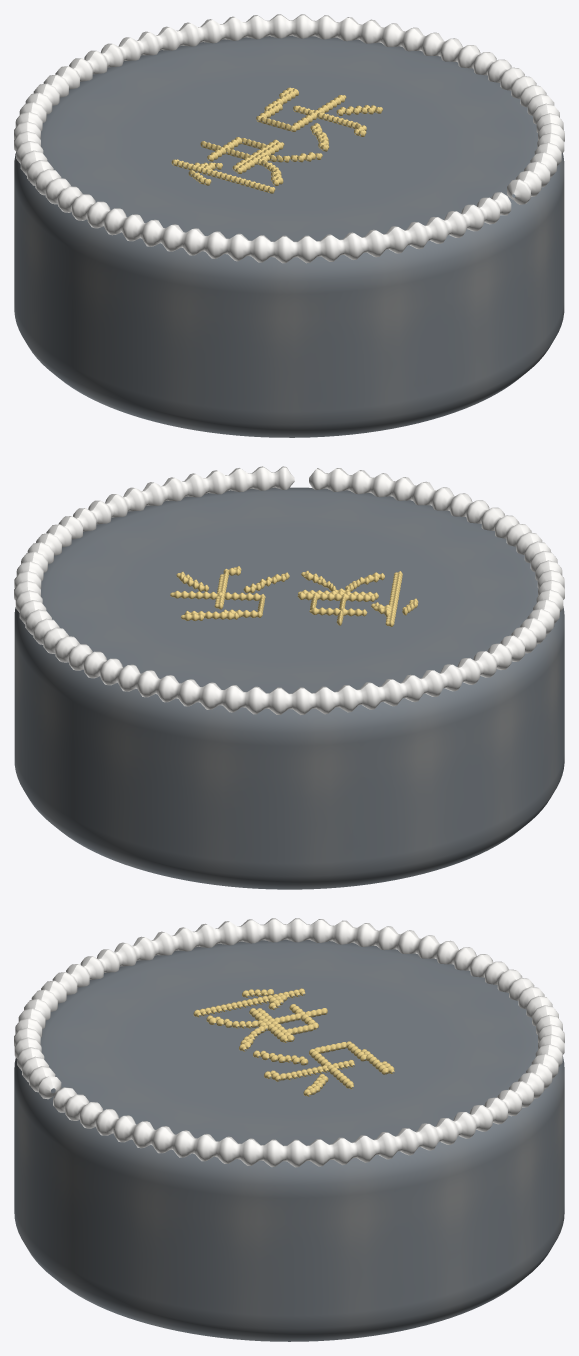
File: cake.glb
The picture shows the model from 3 angles, top to bottom: view 1: azimuth 30°, elevation 25°; view 2: azimuth 150°, elevation 25°; view 3: azimuth 270°, elevation 25°; orthographic projection.
Size of what is drawn, in the model's own units: 0.2404 by 0.0984 by 0.2403.
